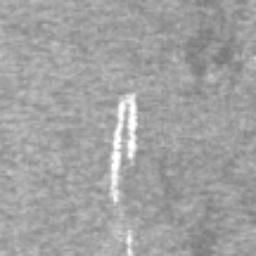White rust: (110, 92, 139, 203), (124, 228, 135, 256)
